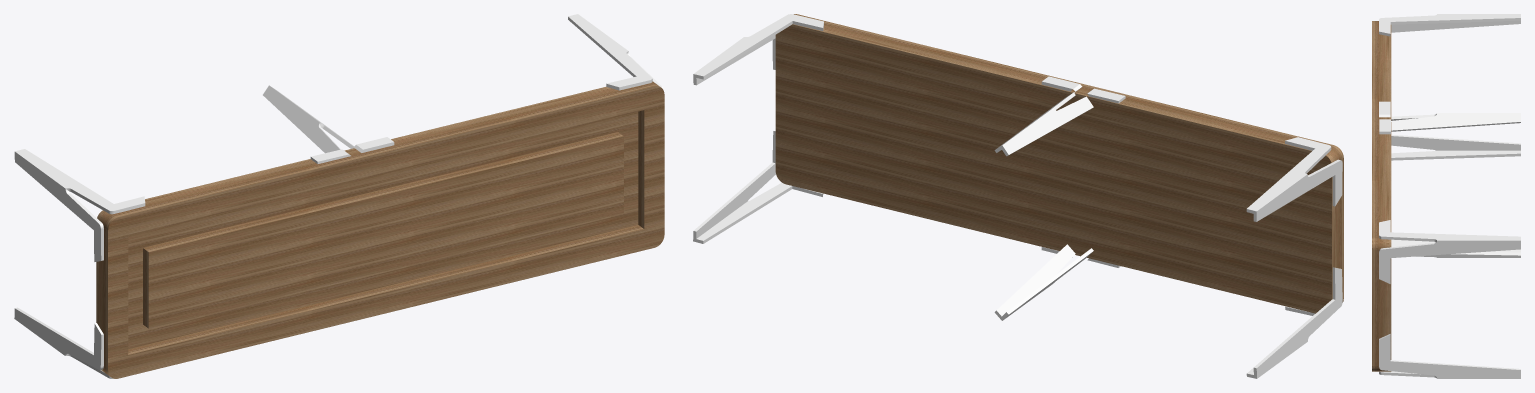
Rendered from mesa-bretda-shufflebooard.glb.
3 views of the same model, side by side, from view 1: azimuth 30°, elevation 25°; view 2: azimuth 150°, elevation 25°; view 3: azimuth 270°, elevation 25° (orthographic). The views are drawn at different scales.
Parts seen in each view (by area): view 1: ID160, ID143, ID170, ID78, ID91, ID65, ID39; view 2: ID143, ID78, ID52, ID65, ID91, ID130, ID39; view 3: ID143, ID65, ID91, ID52, ID78, ID39, ID130, ID27, ID6.
Part boxes in pixels (<box>): ID160: <box>143,132,623,328</box>; ID143: <box>96,81,664,378</box>; ID170: <box>128,110,644,354</box>; ID78: <box>14,149,145,261</box>; ID91: <box>14,307,113,378</box>; ID65: <box>568,14,663,90</box>; ID39: <box>263,85,354,153</box>; ID143: <box>775,14,1343,313</box>; ID78: <box>1246,137,1342,221</box>; ID52: <box>693,131,823,243</box>; ID65: <box>693,14,823,85</box>; ID91: <box>1246,267,1342,378</box>; ID130: <box>994,244,1093,320</box>; ID39: <box>994,92,1093,156</box>; ID143: <box>1372,21,1391,371</box>; ID65: <box>1379,220,1520,283</box>; ID91: <box>1391,134,1520,160</box>; ID52: <box>1379,334,1520,378</box>; ID78: <box>1379,14,1520,36</box>; ID39: <box>1391,113,1520,131</box>; ID130: <box>1391,239,1520,257</box>; ID27: <box>1379,101,1390,117</box>; ID6: <box>1379,119,1390,134</box>.
Size of the model in its own units: 109 by 32.57 by 30.31.
3 materials, 2 textured.
